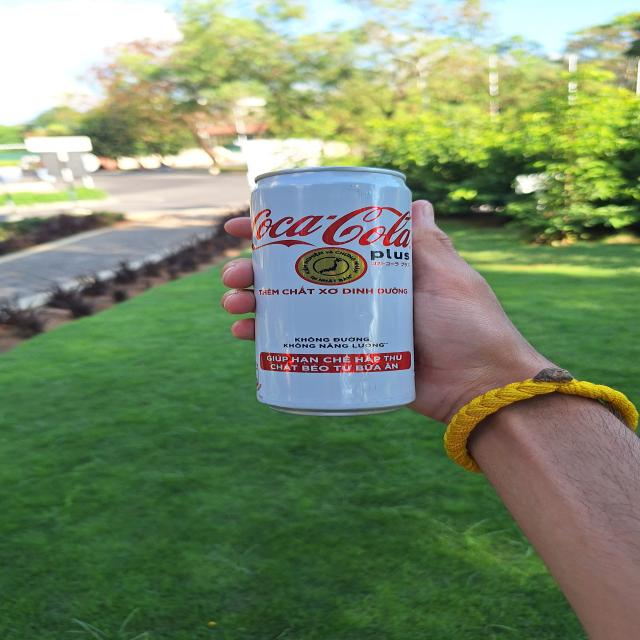Coca Cola Plus: (245, 166, 430, 416)
